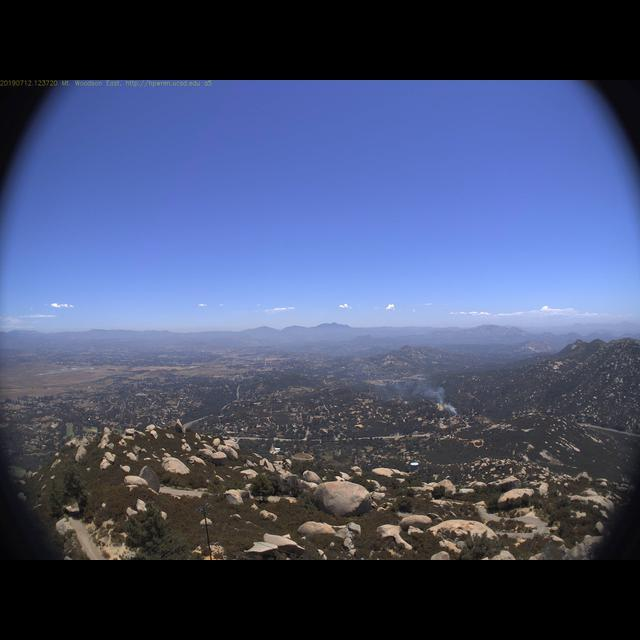Smoke: (375, 368, 463, 419)
